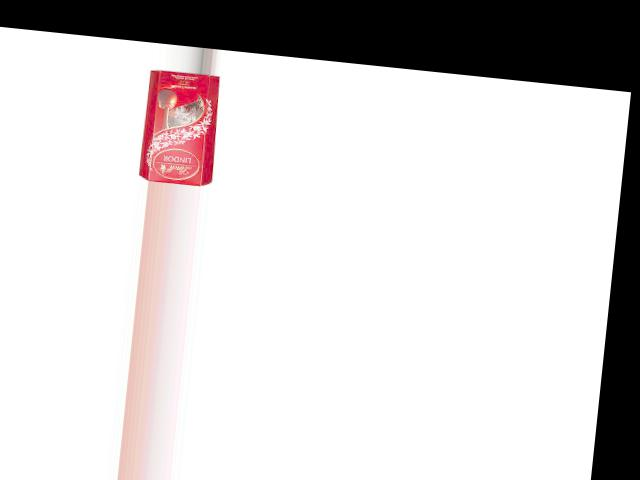chocolate: (133, 67, 224, 187)
